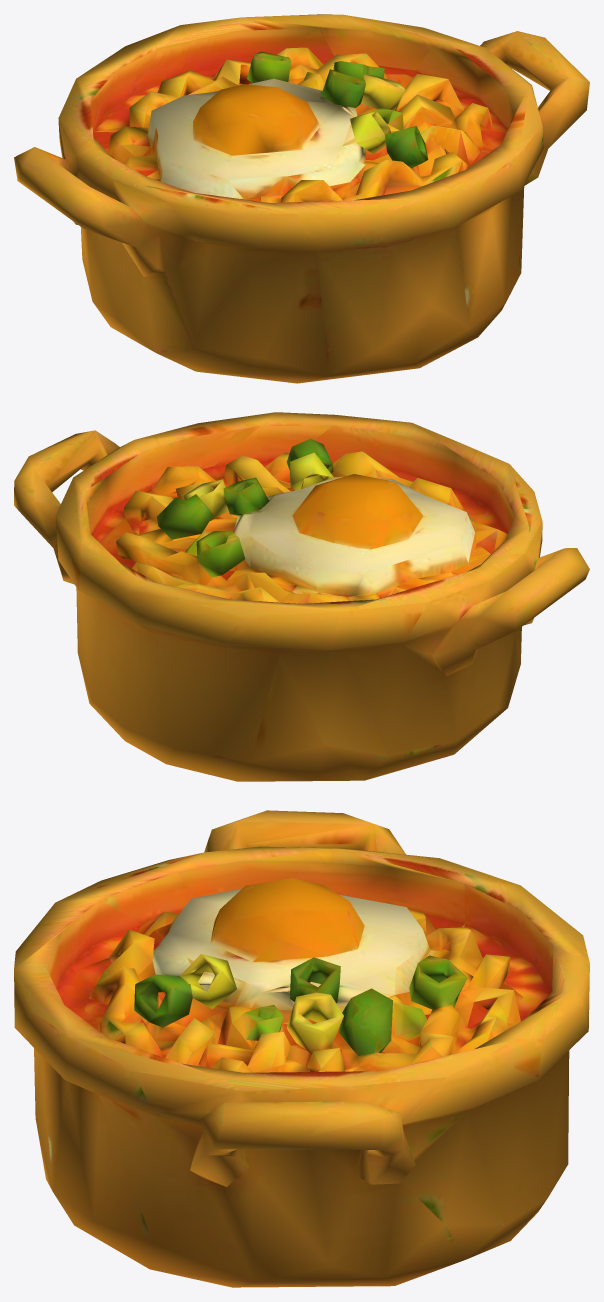
The picture shows the model from 3 angles, top to bottom: view 1: azimuth 30°, elevation 25°; view 2: azimuth 150°, elevation 25°; view 3: azimuth 270°, elevation 25°; orthographic projection. The views are drawn at different scales.
Parts seen in each view (by area): view 1: ramyeon; view 2: ramyeon; view 3: ramyeon.
Part boxes in pixels (x1,y1,x2,y2): ramyeon: (14, 14, 589, 383); ramyeon: (14, 412, 589, 781); ramyeon: (14, 810, 589, 1287).
Size of the model in its own units: 0.241 by 0.0986 by 0.1888.
Materials: 1 (1 with a texture image).
